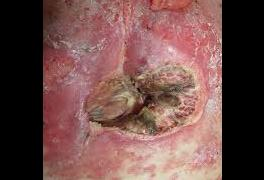Stage3: (56, 0, 216, 164)
